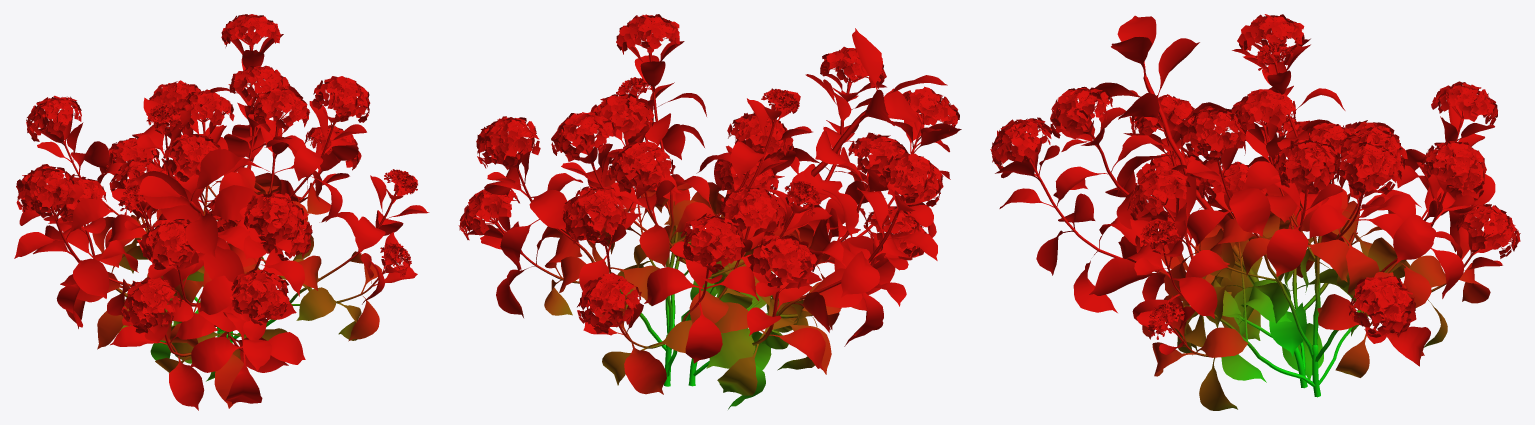
Rendered from Bigleaf Hydrangea_LOD1_Var3_vgztealha.fbx.
The picture shows the model from 3 angles, left to right: view 1: azimuth 30°, elevation 25°; view 2: azimuth 150°, elevation 25°; view 3: azimuth 270°, elevation 25°; orthographic projection. The views are drawn at different scales.
Visible parts, largest first — view 1: _6d6k_Var3_LOD1; view 2: _6d6k_Var3_LOD1; view 3: _6d6k_Var3_LOD1.
Boxes of the visible parts, <box> form: _6d6k_Var3_LOD1: <box>14,14,429,410</box>; _6d6k_Var3_LOD1: <box>458,14,961,409</box>; _6d6k_Var3_LOD1: <box>990,14,1520,410</box>.
Bounding box in the file's own units: 182 × 135 × 194.
